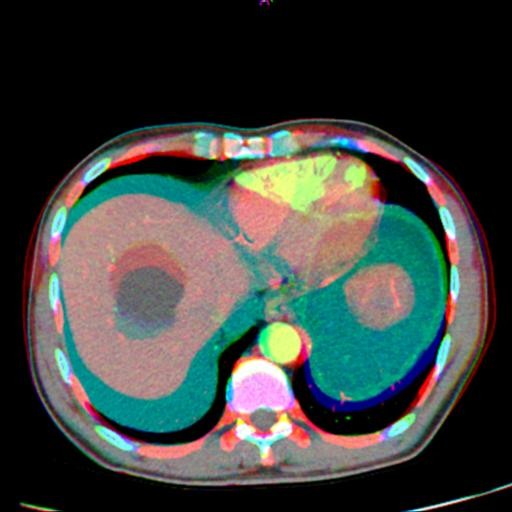Cyst: (114, 266, 183, 338)
